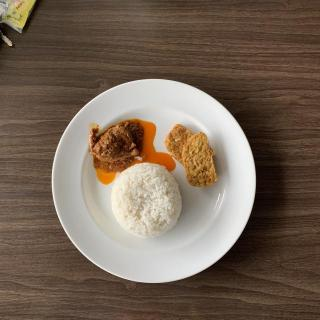Nasi: (112, 163, 184, 237)
